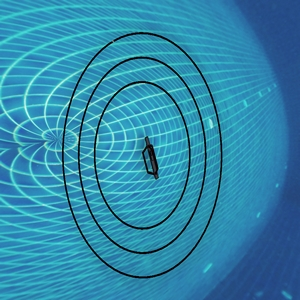submarine: (142, 142, 162, 172)
